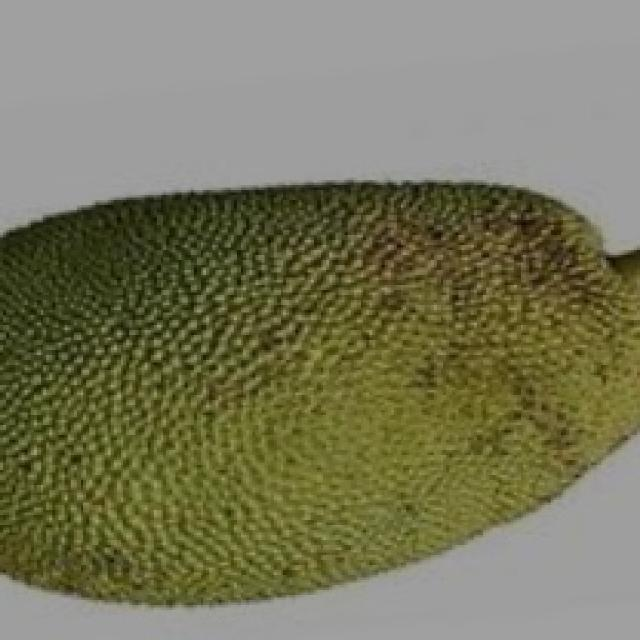Fruit: (0, 190, 406, 635), (258, 160, 640, 580)
